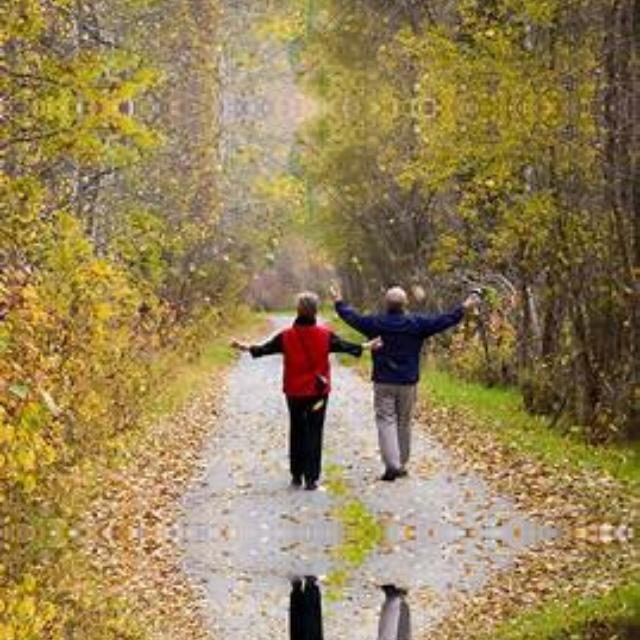person: (334, 273, 462, 467), (240, 289, 366, 477), (239, 589, 366, 640), (334, 599, 462, 640)
